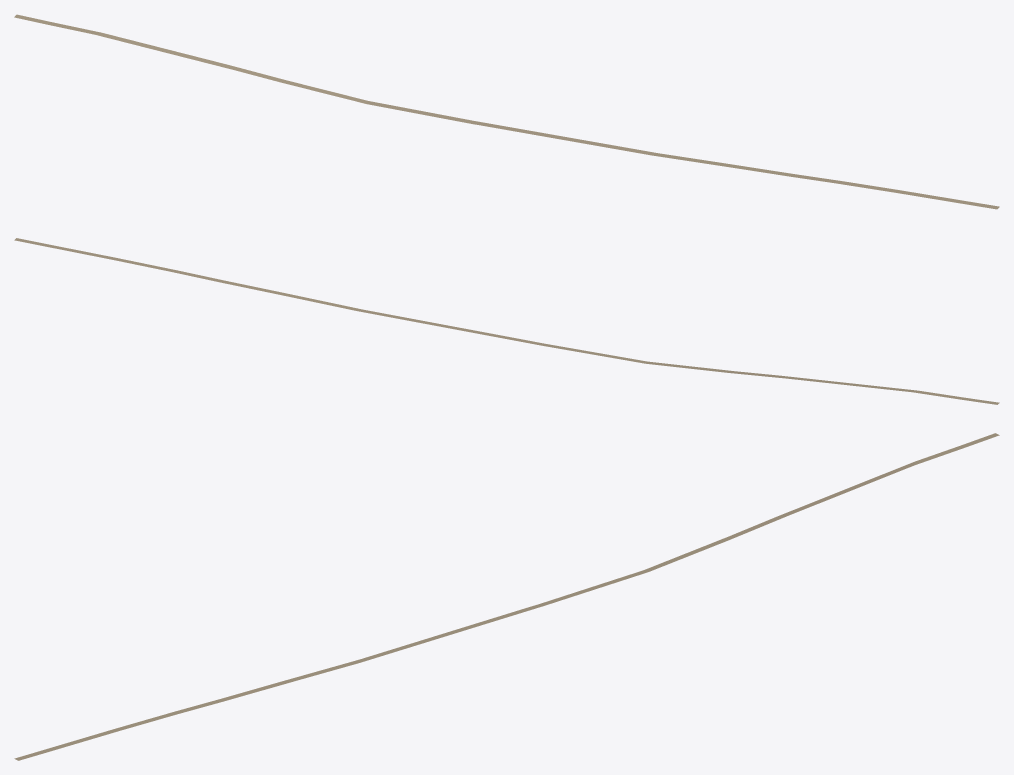
Rendered from farm_28_12_track.glb.
The picture shows the model from 3 angles, top to bottom: view 1: azimuth 30°, elevation 25°; view 2: azimuth 210°, elevation 25°; view 3: azimuth 270°, elevation 25°; orthographic projection. The views are drawn at different scales.
Parts seen in each view (by area): view 1: geometry_0; view 2: geometry_0; view 3: geometry_0.
Part boxes in pixels (bbox=[...]): geometry_0: bbox=[14, 14, 999, 209]; geometry_0: bbox=[14, 238, 999, 404]; geometry_0: bbox=[14, 433, 999, 760].
Bounding box in the file's own units: 320 × 13.06 × 427.
